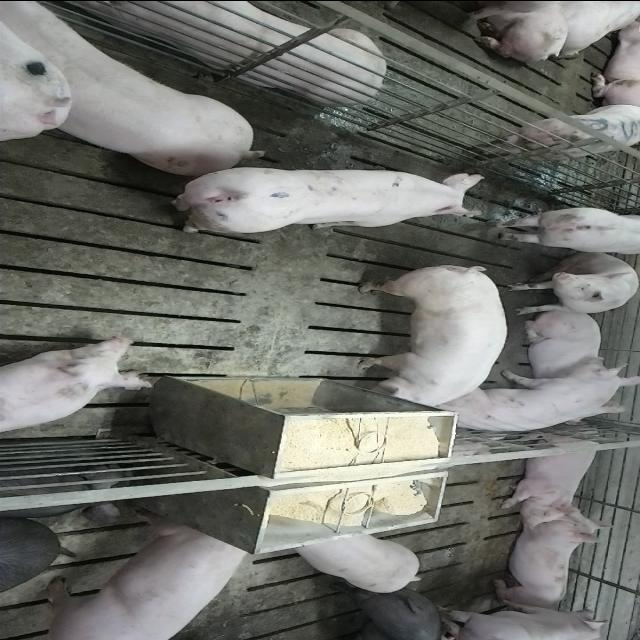Sitting: (446, 358, 640, 438), (510, 252, 640, 316)
Standing: (39, 518, 251, 638), (162, 164, 486, 234), (482, 102, 638, 162), (286, 532, 421, 594), (484, 203, 638, 256), (324, 585, 450, 640), (438, 608, 616, 640)
Sternal_lying: (57, 0, 392, 102), (0, 334, 155, 436), (490, 510, 606, 609), (499, 424, 611, 524), (518, 310, 614, 384)
